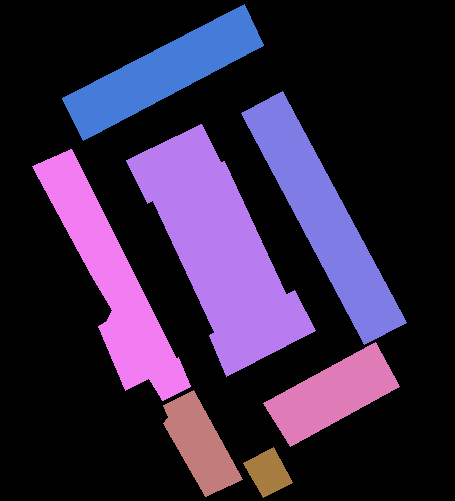parkingspot: (241, 91, 406, 344), (32, 149, 178, 390), (62, 4, 263, 140), (151, 161, 286, 332), (263, 342, 399, 446), (209, 290, 315, 376), (163, 390, 242, 496), (126, 124, 221, 203), (243, 447, 292, 497), (148, 357, 190, 400)
